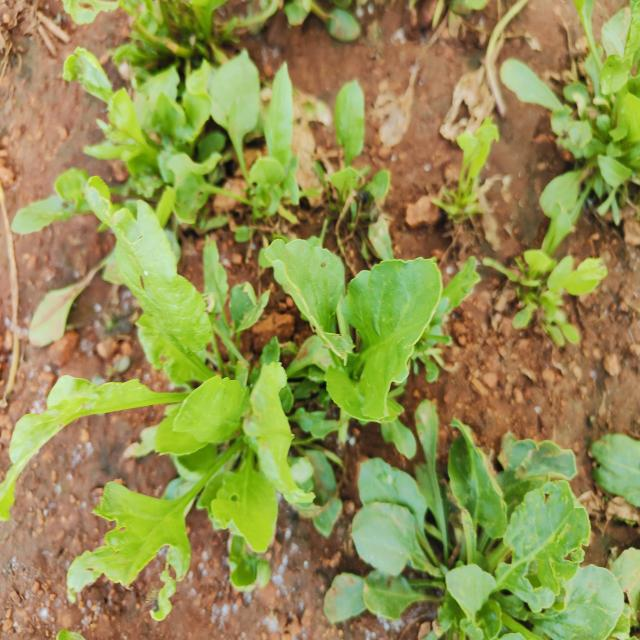leaves: (1, 352, 190, 531), (64, 430, 249, 611), (323, 227, 452, 456), (184, 418, 302, 584), (253, 224, 363, 393), (340, 448, 469, 561), (121, 266, 227, 400), (498, 465, 594, 612), (345, 496, 478, 595), (153, 345, 254, 459), (449, 427, 525, 566), (425, 558, 500, 623)
